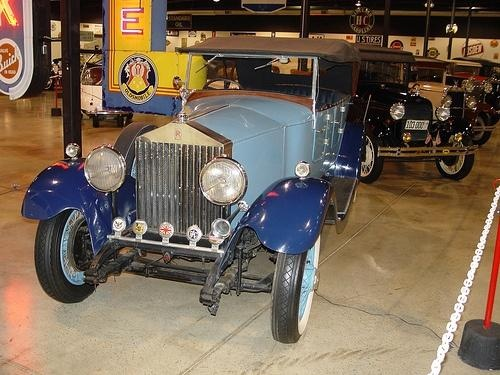car: (21, 36, 364, 343), (353, 43, 477, 184), (414, 55, 481, 117), (446, 59, 496, 95)
